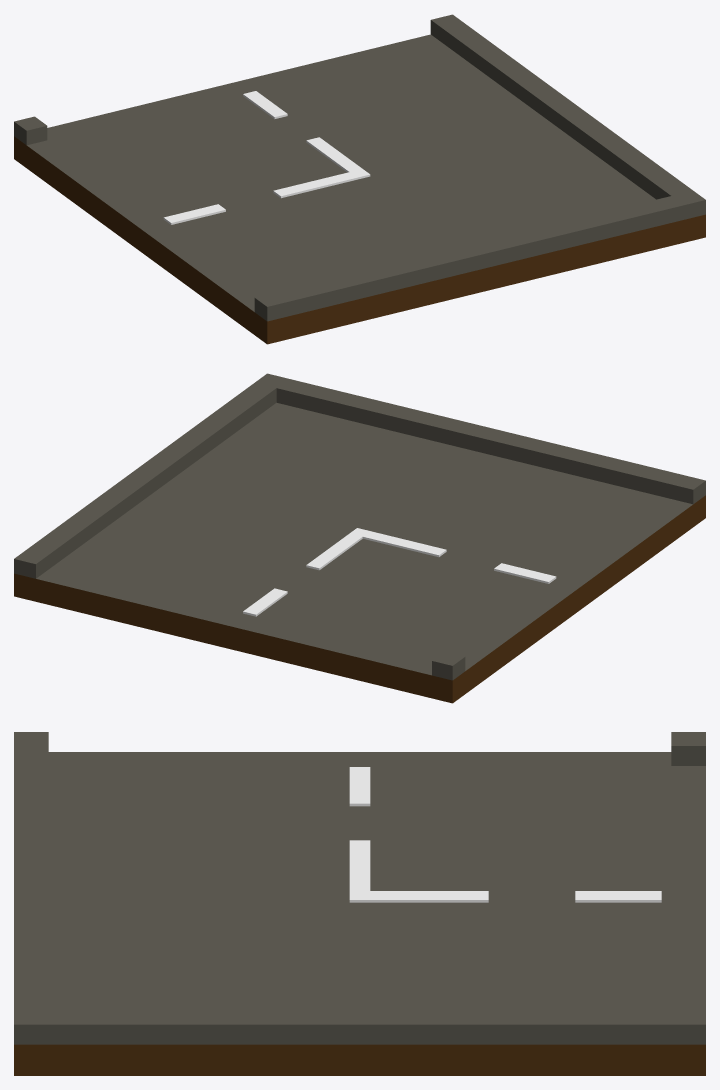
File: CityRoadCurve.fbx
3 views of the same model, one above another, from view 1: azimuth 30°, elevation 25°; view 2: azimuth 150°, elevation 25°; view 3: azimuth 270°, elevation 25° (orthographic). The views are drawn at different scales.
Visible parts, largest first — view 1: CityRoadCurve; view 2: CityRoadCurve; view 3: CityRoadCurve.
Boxes of the visible parts, box(x1,y1,x2,y2) form: CityRoadCurve: box(14, 14, 705, 344); CityRoadCurve: box(14, 373, 705, 703); CityRoadCurve: box(14, 732, 705, 1075).
Size of the model in its own units: 1 by 0.0818 by 1.
